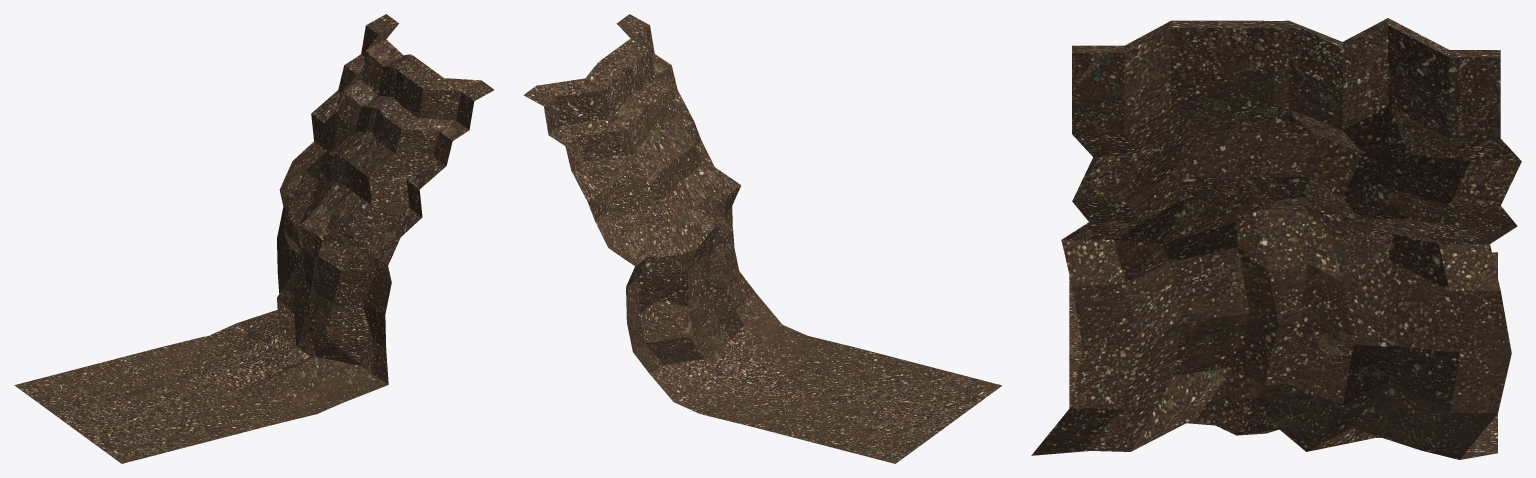
File: faggot.glb
3 renders of one model, left to right at view 1: azimuth 30°, elevation 25°; view 2: azimuth 150°, elevation 25°; view 3: azimuth 270°, elevation 25°, orthographic. The views are drawn at different scales.
Parts seen in each view (by area): view 1: montanha; view 2: montanha; view 3: montanha.
Boxes of the visible parts, x1,y1,x2,y2 form: montanha: (14, 14, 494, 463); montanha: (523, 14, 1002, 463); montanha: (1031, 18, 1521, 459).
Bounding box in the file's own units: 36.54 × 26.49 × 20.86.
1 material, 1 textured.
